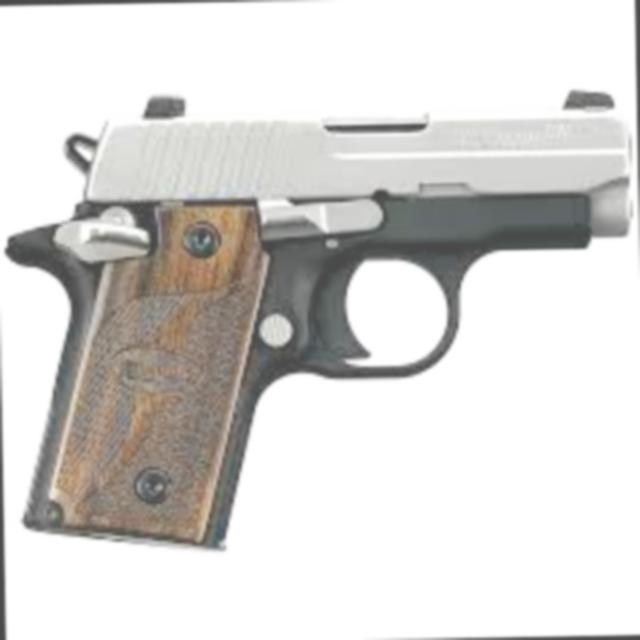semi automatic: (0, 45, 639, 562)
